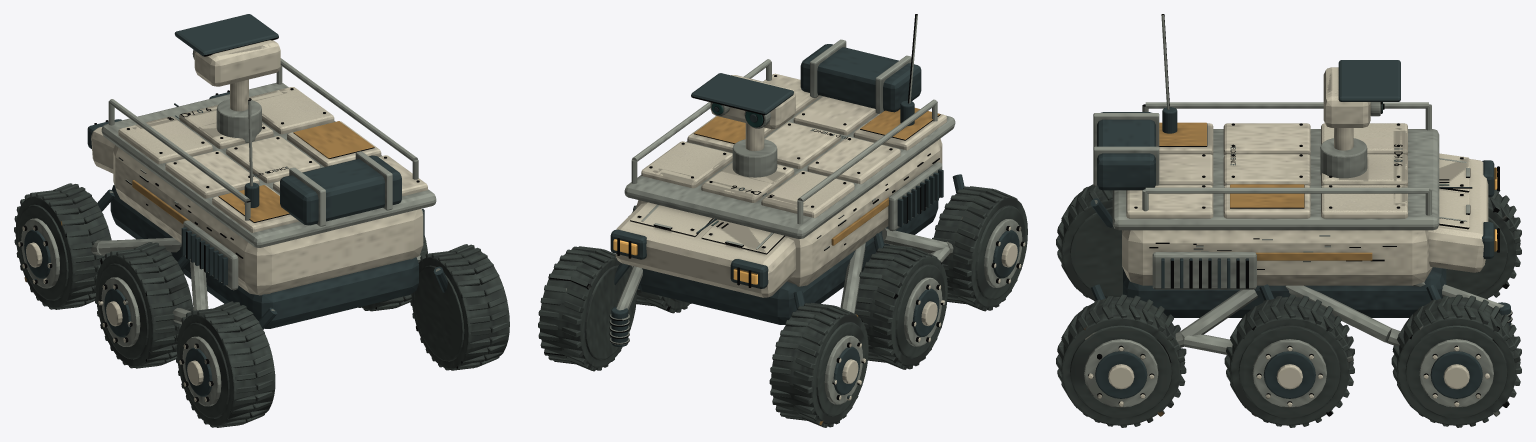
The model's file is rover.glb.
3 views of the same model, side by side, from view 1: azimuth 30°, elevation 25°; view 2: azimuth 150°, elevation 25°; view 3: azimuth 270°, elevation 25° (orthographic). The views are drawn at different scales.
Visible parts, largest first — view 1: rover_body, wheel_left_01, wheel_right_01, wheel_left_02, wheel_left_03, wheel_right_02; view 2: rover_body, wheel_left_03, wheel_left_02, wheel_left_01, wheel_right_03, wheel_right_02; view 3: rover_body, wheel_right_03, wheel_right_02, wheel_right_01, wheel_left_01, wheel_left_03.
Part boxes in pixels (x1,y1,x2,y2): rover_body: (87,14,447,329); wheel_left_01: (175,301,275,427); wheel_right_01: (410,244,509,370); wheel_left_02: (94,242,193,368); wheel_left_03: (14,183,111,309); wheel_right_02: (358,236,427,311); rover_body: (609,14,964,346); wheel_left_03: (769,302,868,427); wheel_left_02: (854,244,947,369); wheel_left_01: (932,186,1027,311); wheel_right_03: (538,246,636,371); wheel_right_02: (628,205,691,313); rover_body: (1090,14,1512,354); wheel_right_03: (1391,294,1521,427); wheel_right_02: (1224,294,1354,427); wheel_right_01: (1056,294,1186,427); wheel_left_01: (1056,184,1122,301); wheel_left_03: (1446,189,1521,299).
Size of the model in its own units: 2.08 by 1.94 by 2.68.
3 materials, 3 textured.
